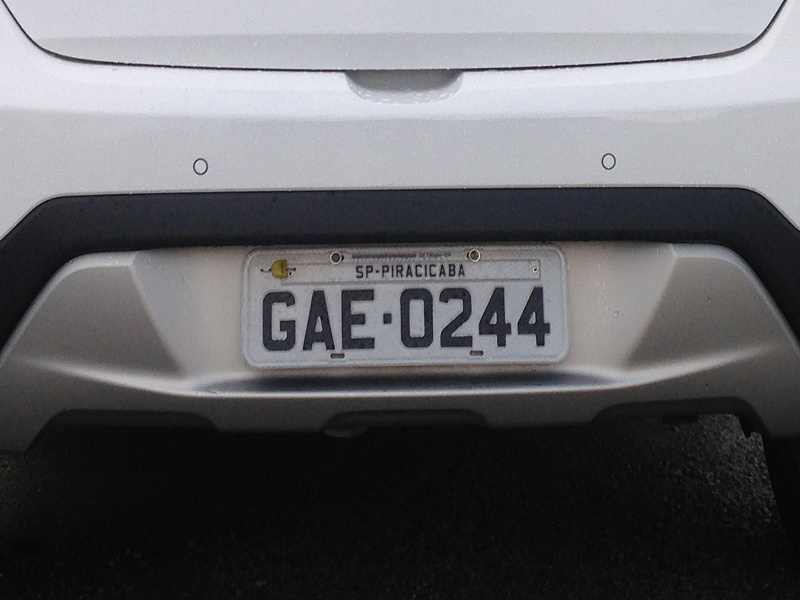placa: (240, 243, 569, 370)
